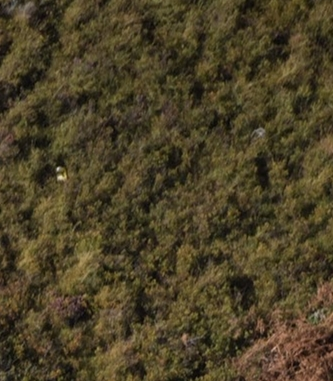white_in_green: (42, 155, 82, 193)
